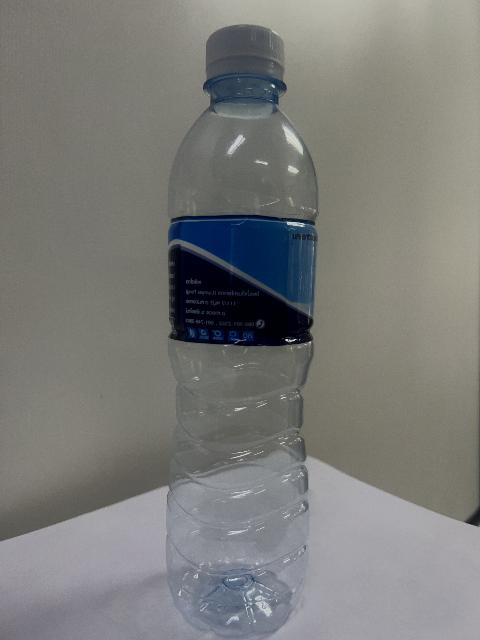bottle: (166, 25, 316, 637)
